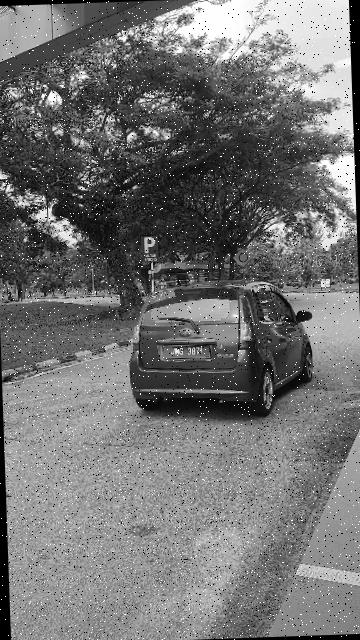License_Plate: (163, 343, 214, 363)
car: (124, 279, 325, 422)
